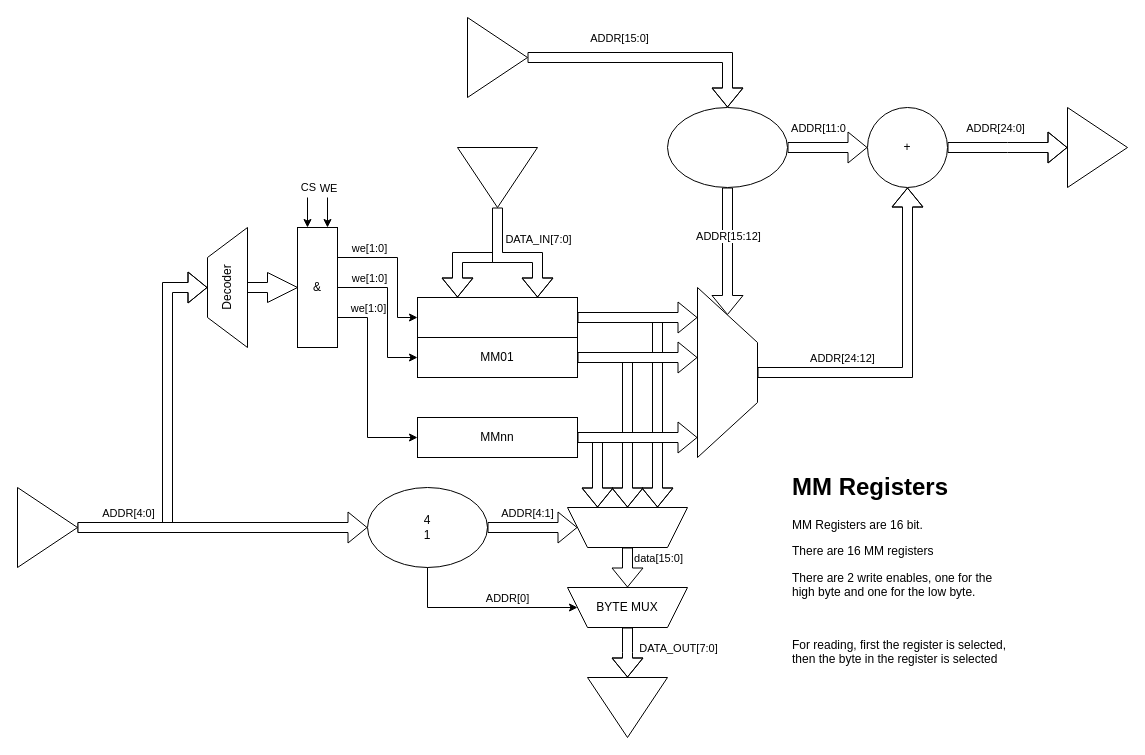
Some shapes in this 1145 by 755 pixel diagram are drawn without their labels. The box of each missing label's shape, as (x1, y1, x2, y2) in pixels:
MM00: (416, 296, 578, 338)
n-4 4: (666, 106, 788, 188)
WORD MUX: (566, 506, 688, 548)
